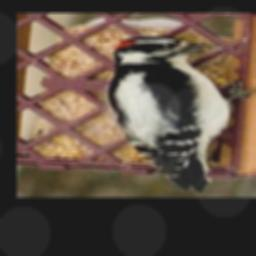Woodpecker: (109, 36, 256, 192)
